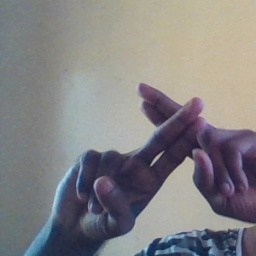F: (95, 77, 256, 196)
